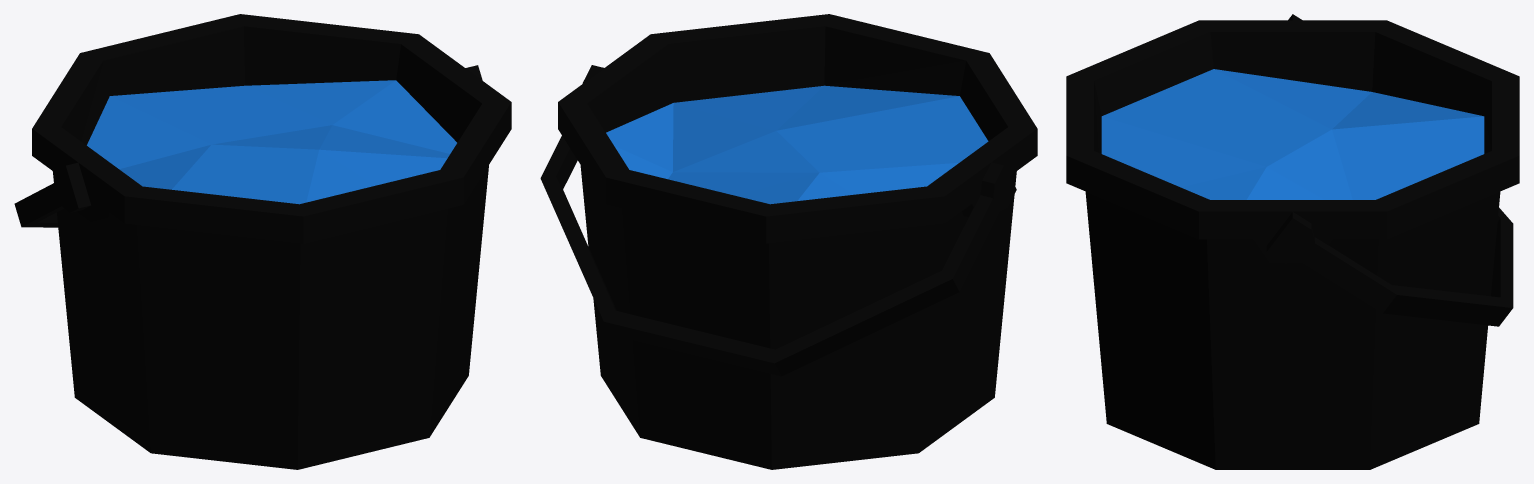
File: SM_bucket_with_toppings1.fbx
3 views of the same model, side by side, from view 1: azimuth 30°, elevation 25°; view 2: azimuth 150°, elevation 25°; view 3: azimuth 270°, elevation 25° (orthographic).
Parts seen in each view (by area): view 1: bucket_with_toppings1; view 2: bucket_with_toppings1; view 3: bucket_with_toppings1.
Boxes of the visible parts, bbox=[...] form: bucket_with_toppings1: bbox=[14, 14, 511, 469]; bucket_with_toppings1: bbox=[540, 14, 1037, 469]; bucket_with_toppings1: bbox=[1066, 14, 1519, 469].
Size of the model in its own units: 23.26 by 14.64 by 21.83.
